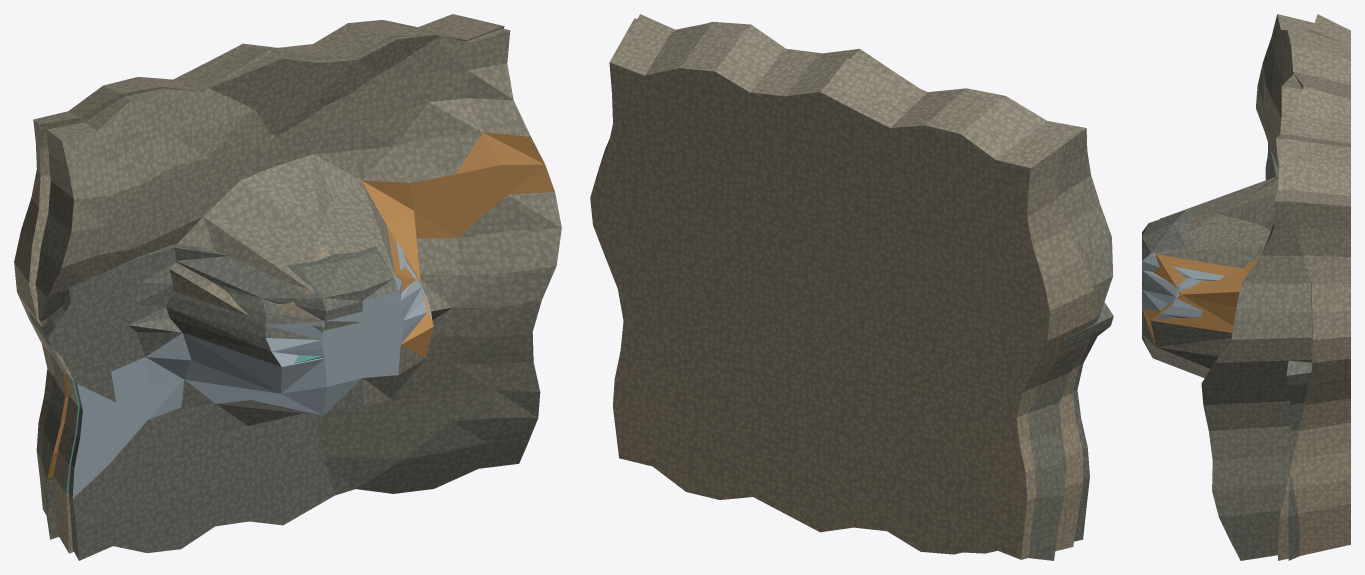
The model's file is veins.glb.
3 renders of one model, left to right at view 1: azimuth 30°, elevation 25°; view 2: azimuth 150°, elevation 25°; view 3: azimuth 270°, elevation 25°, orthographic. The views are drawn at different scales.
Visible parts, largest first — view 1: vein-lower_cracked_rock, vein-upper_cracked_rock, vein-upper_intact_rock, vein-middle_cracked_rock, vein-lower_intact_rock, vein-middle_intact_rock; view 2: vein-middle_cracked_rock, vein-lower_cracked_rock, vein-upper_cracked_rock; view 3: vein-lower_cracked_rock, vein-middle_cracked_rock, vein-lower_intact_rock, vein-upper_intact_rock, vein-upper_cracked_rock.
Boxes of the visible parts, x1=… form: vein-lower_cracked_rock: x1=35, y1=28, x2=561, y2=539; vein-upper_cracked_rock: x1=28, y1=245, x2=375, y2=560; vein-upper_intact_rock: x1=126, y1=241, x2=432, y2=438; vein-middle_cracked_rock: x1=14, y1=14, x2=504, y2=553; vein-lower_intact_rock: x1=169, y1=154, x2=458, y2=406; vein-middle_intact_rock: x1=170, y1=241, x2=330, y2=363; vein-middle_cracked_rock: x1=590, y1=18, x2=1096, y2=559; vein-lower_cracked_rock: x1=637, y1=14, x2=1113, y2=560; vein-upper_cracked_rock: x1=1059, y1=302, x2=1113, y2=541; vein-lower_cracked_rock: x1=1201, y1=14, x2=1337, y2=560; vein-middle_cracked_rock: x1=1276, y1=14, x2=1350, y2=560; vein-lower_intact_rock: x1=1142, y1=176, x2=1278, y2=378; vein-upper_intact_rock: x1=1142, y1=210, x2=1224, y2=319; vein-upper_cracked_rock: x1=1174, y1=143, x2=1325, y2=560.
Bounding box in the file's own units: 1.33 × 1.22 × 0.567.
4 materials, 1 textured.
